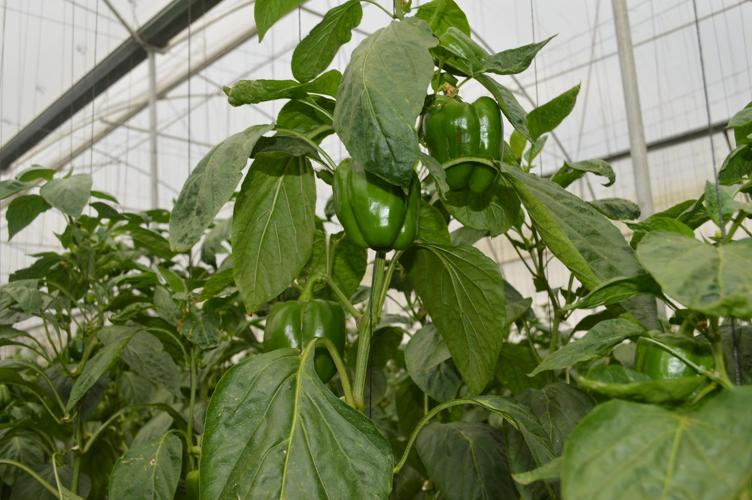BellPepper: (407, 92, 509, 207), (324, 157, 431, 263), (251, 294, 353, 385), (619, 316, 720, 405)
